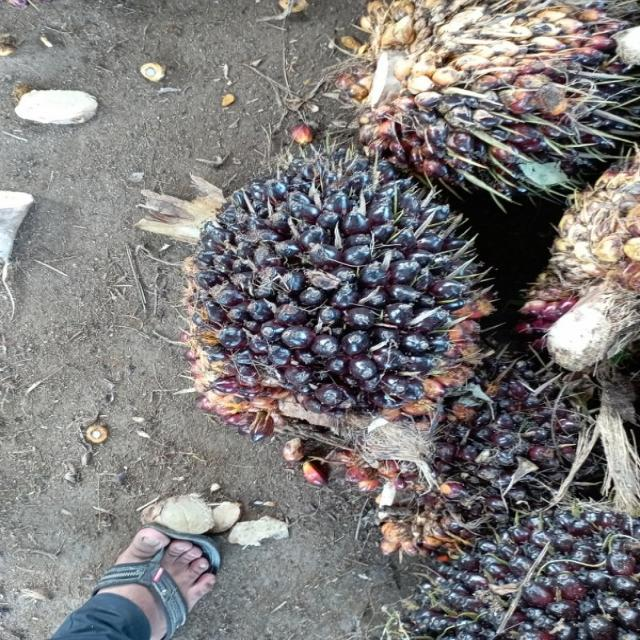fraksi 00: (118, 101, 518, 469)
